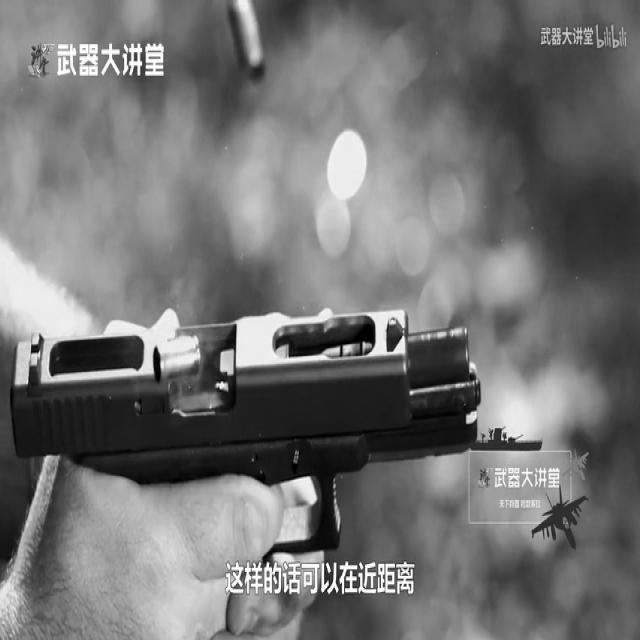Hand-Gun: (0, 193, 567, 640)
